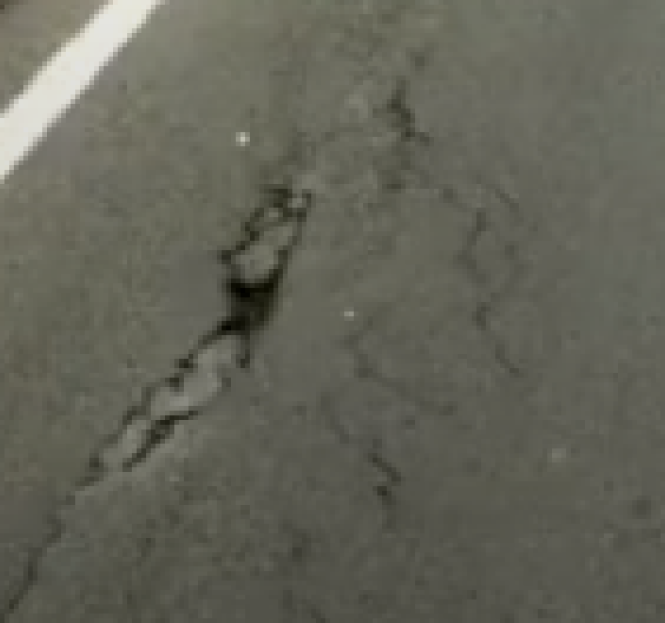Retak Memanjang: (1, 134, 363, 623)
